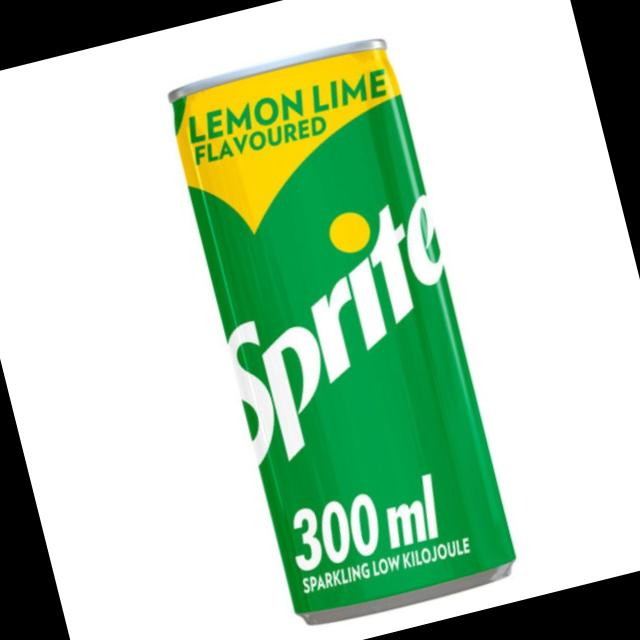sprite: (154, 34, 523, 636)
